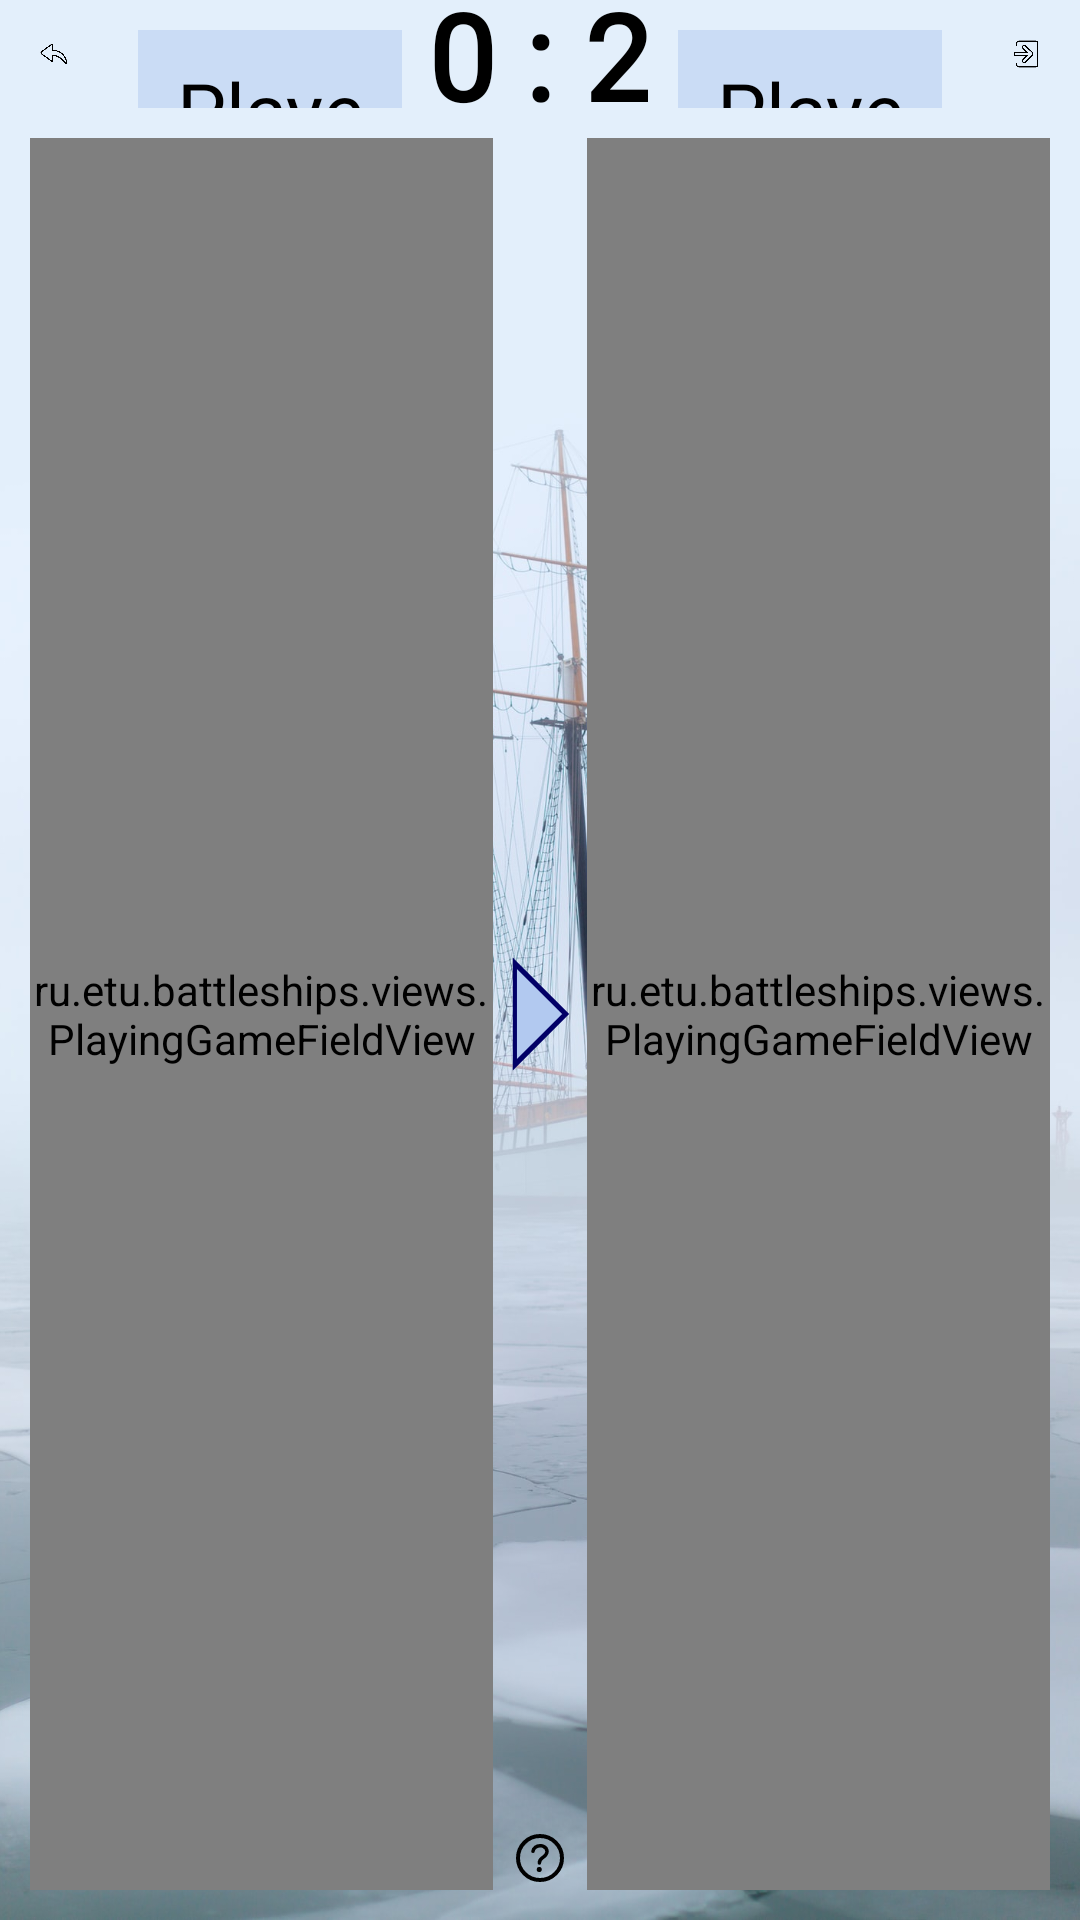

Icons on this 1080x1920 Android screen, each with its box as bbox=(x1, y1, x2, y2):
Back: bbox=(40, 44, 67, 64)
